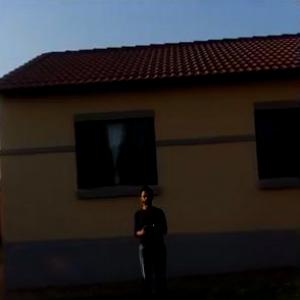follow: (132, 183, 176, 299)
